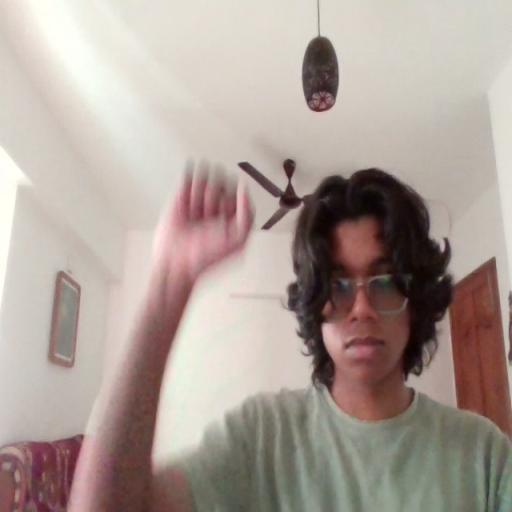Rock: (159, 163, 256, 280)
